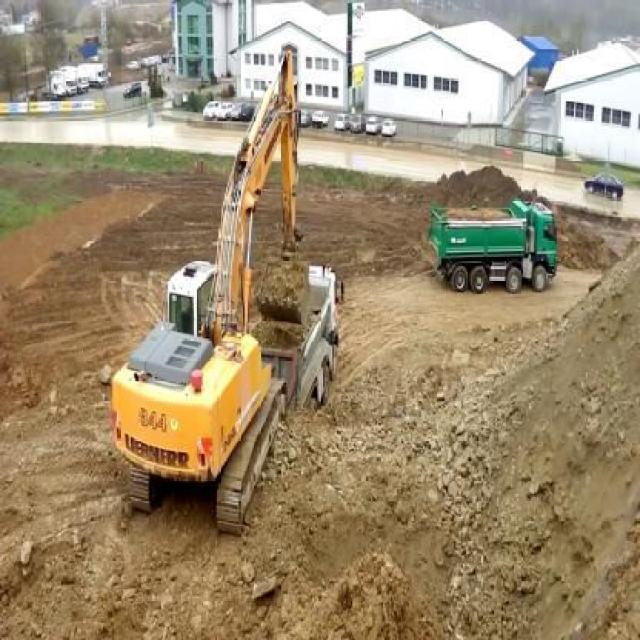Dump Truck: (428, 174, 566, 303), (259, 263, 344, 412)
Excavator: (97, 44, 318, 550)
